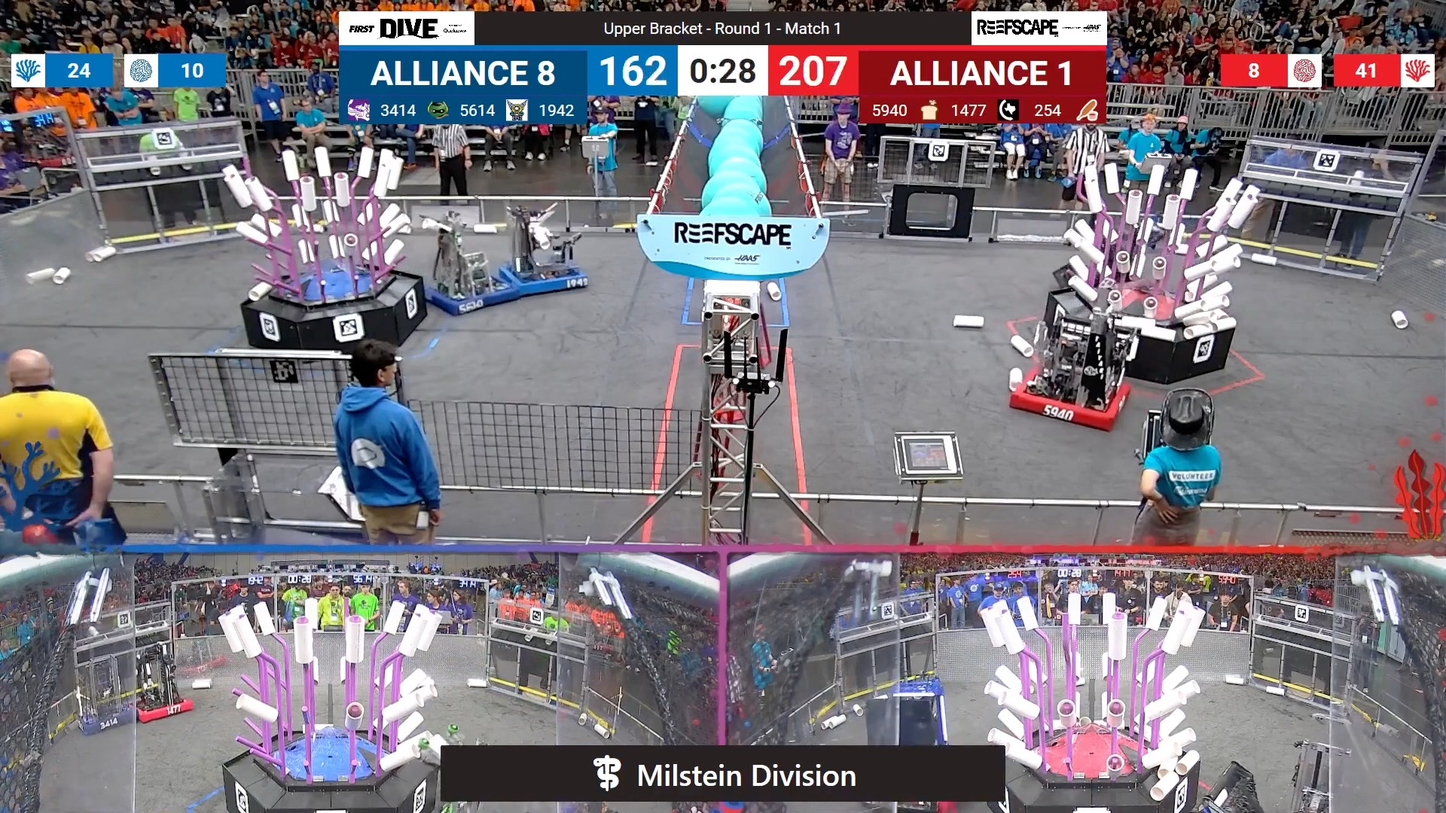bumpers: (1006, 361, 1144, 438), (486, 253, 596, 299), (425, 268, 522, 320), (122, 690, 203, 729), (75, 700, 137, 735)
